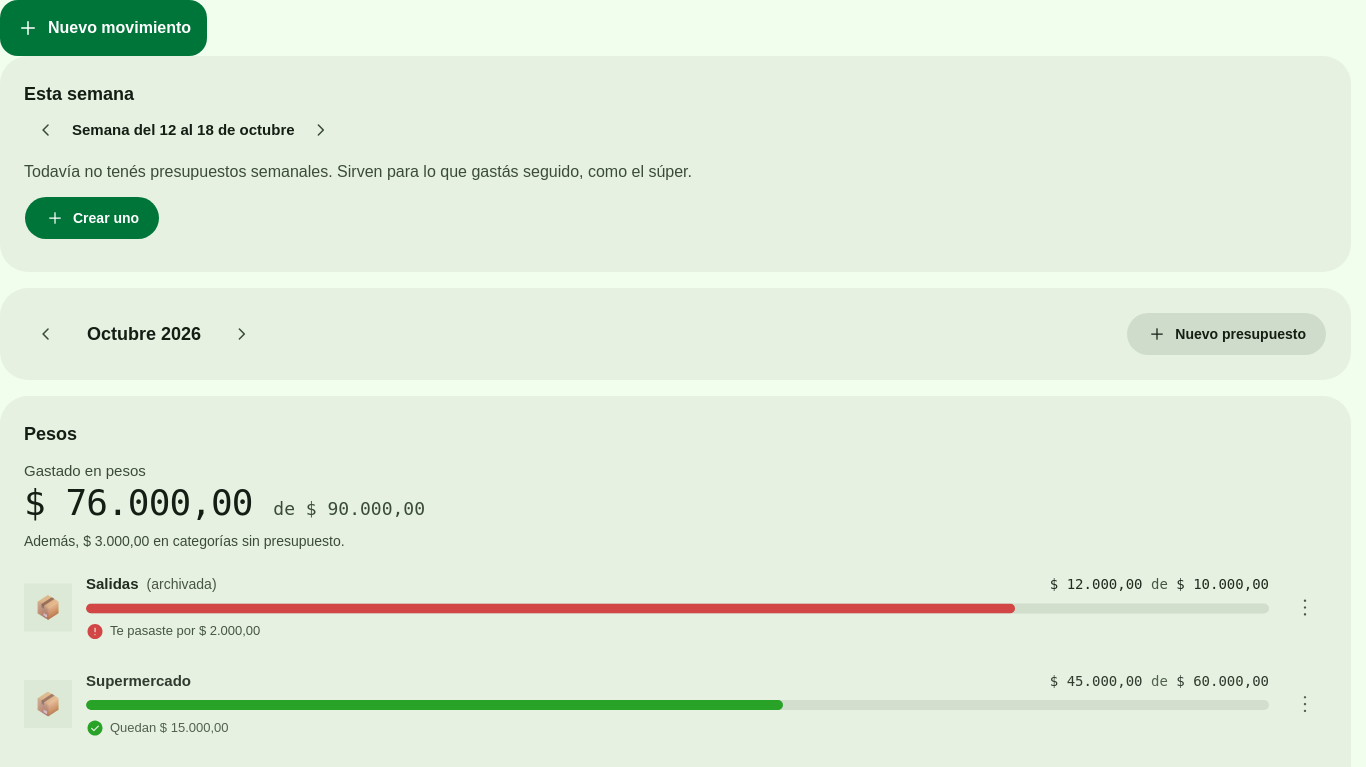
Test: BudgetsPage › updates the progress right after saving a movement
The image size is (1366, 767).
Click the button "Nuevo movimiento" at [104, 28], box [0,0,207,56]
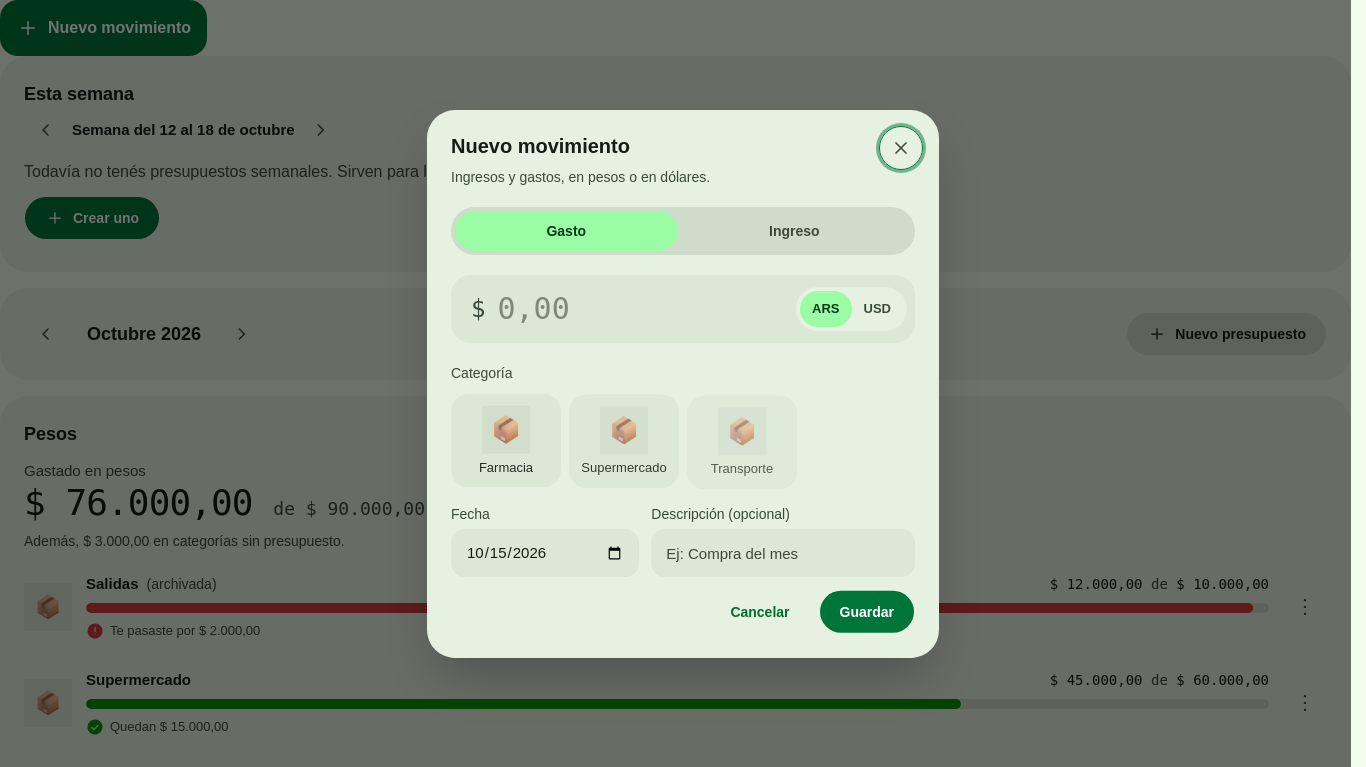
Type "20.000" into the field named "Monto" at [641, 309], box [498,283,784,335]
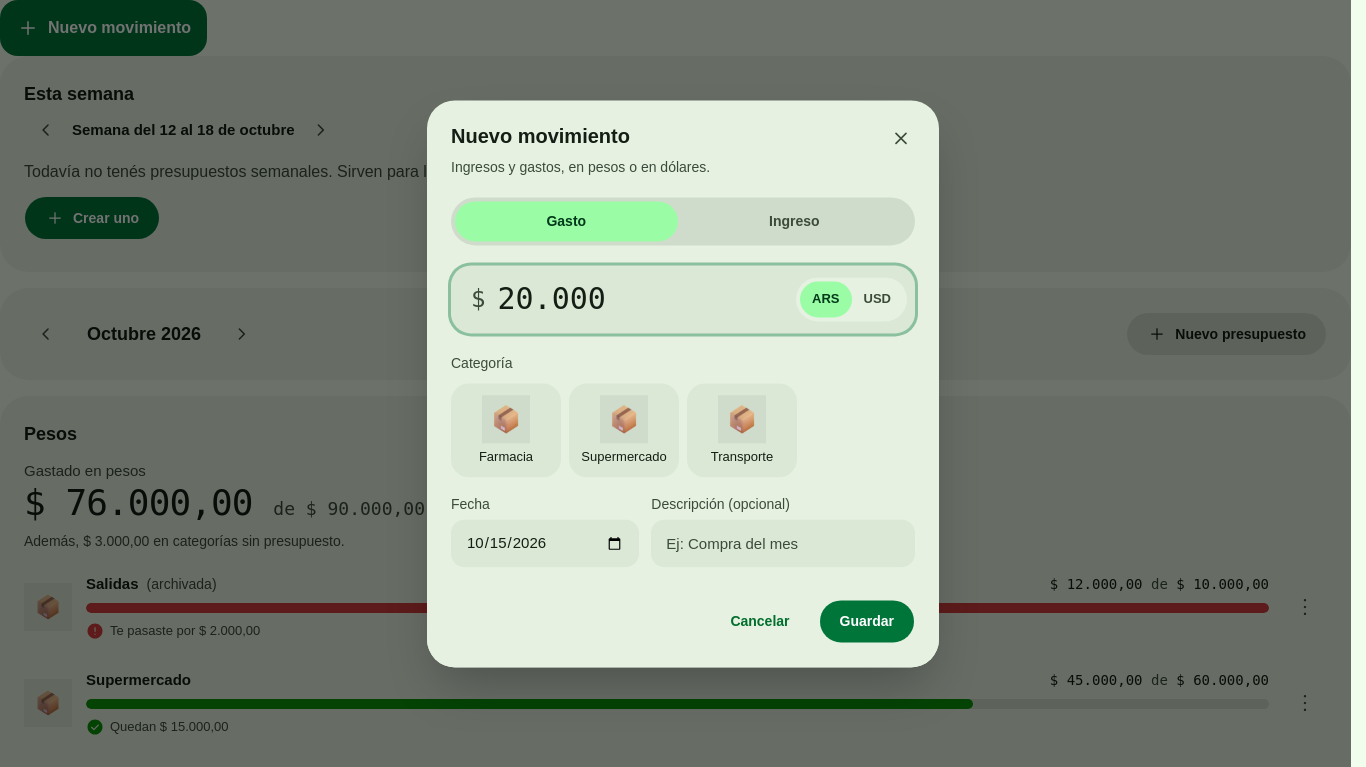
Click the radio button labelled "Supermercado" at [624, 431], box [569,383,679,478]
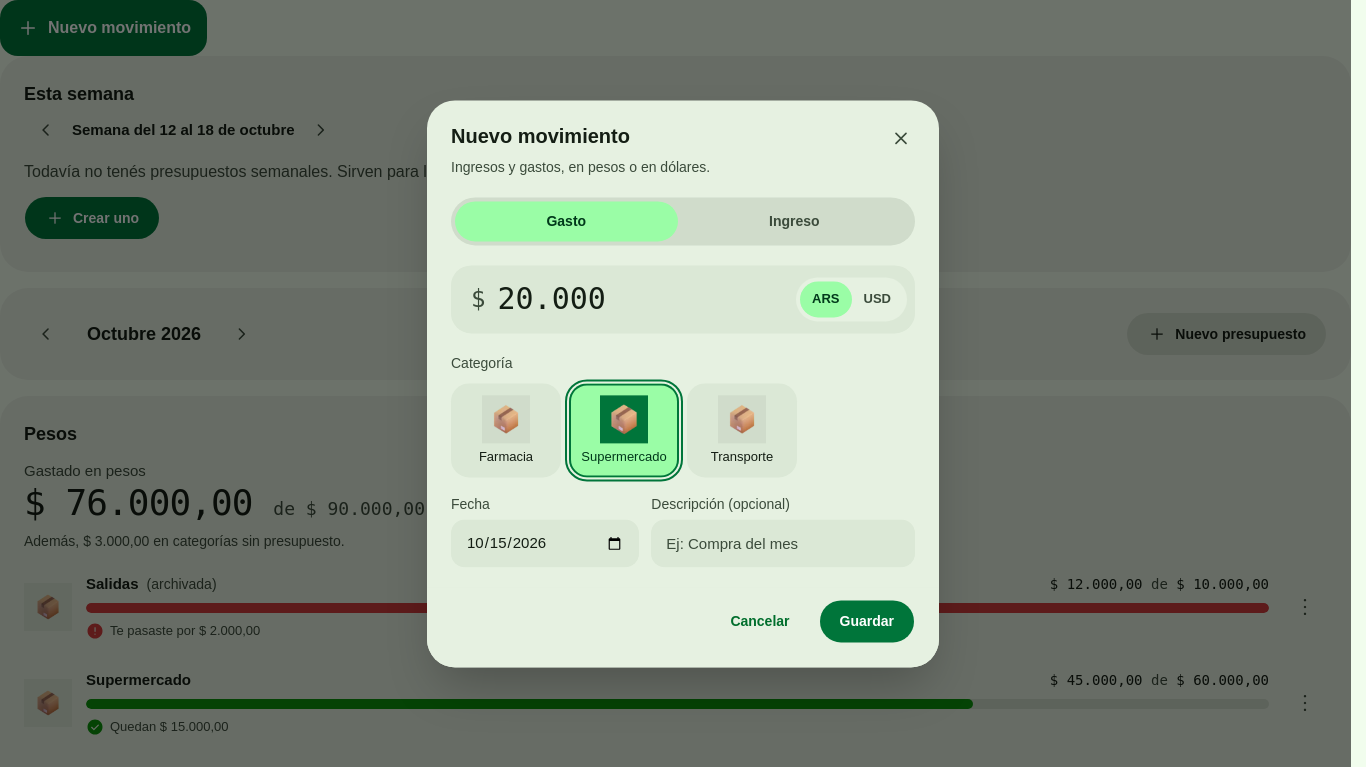
Click the button "Guardar" at [867, 622], box [818,600,915,644]
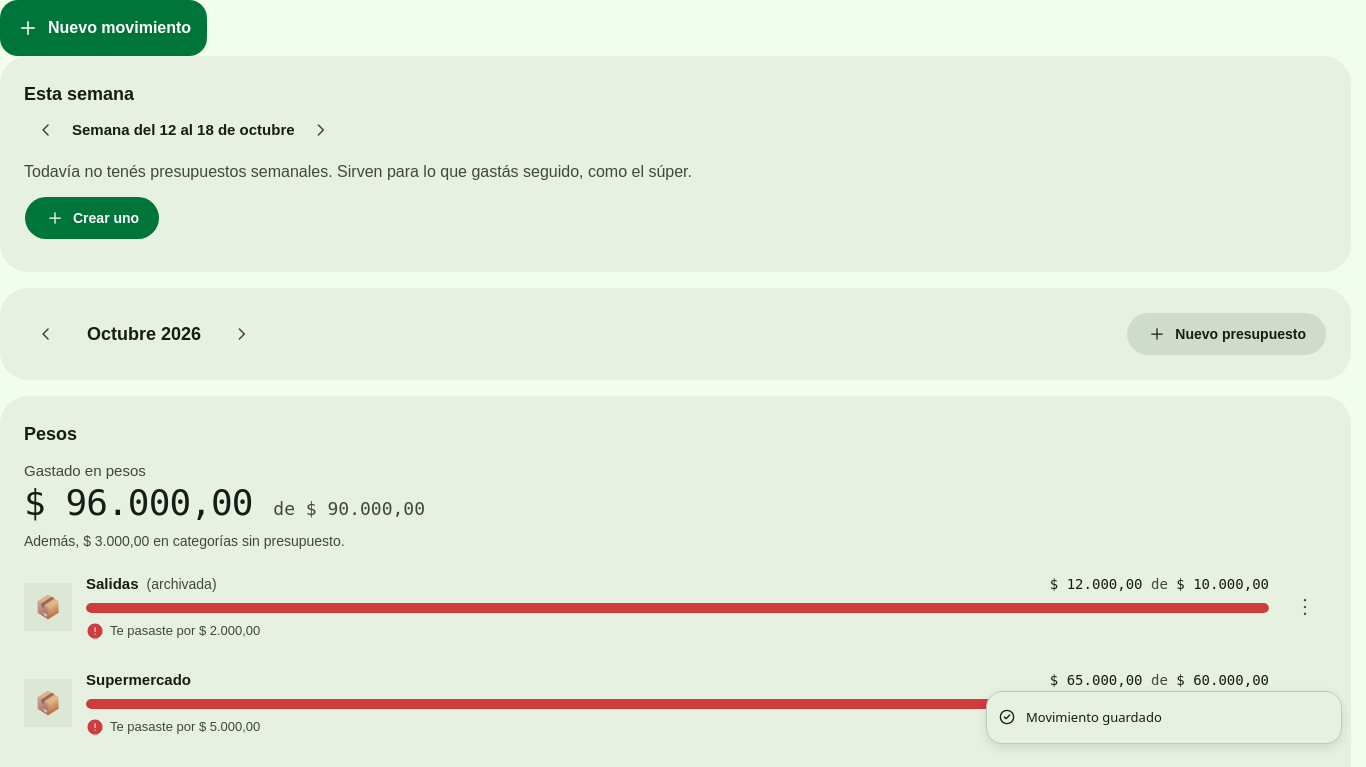
Check: the list item that starts with "Supermercado" shows "Te pasaste por $ 5.000,00", box [110,719,260,734]
